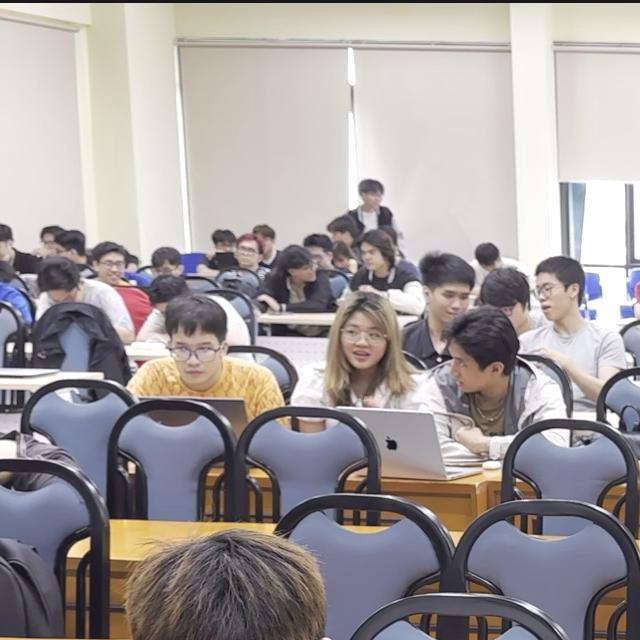Looking away: (170, 332, 223, 384), (448, 338, 494, 393), (536, 272, 570, 323), (430, 284, 470, 327)
Looking forward: (342, 319, 387, 370), (100, 255, 126, 288)
